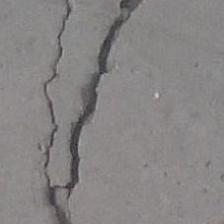Crack: (32, 0, 148, 224)
